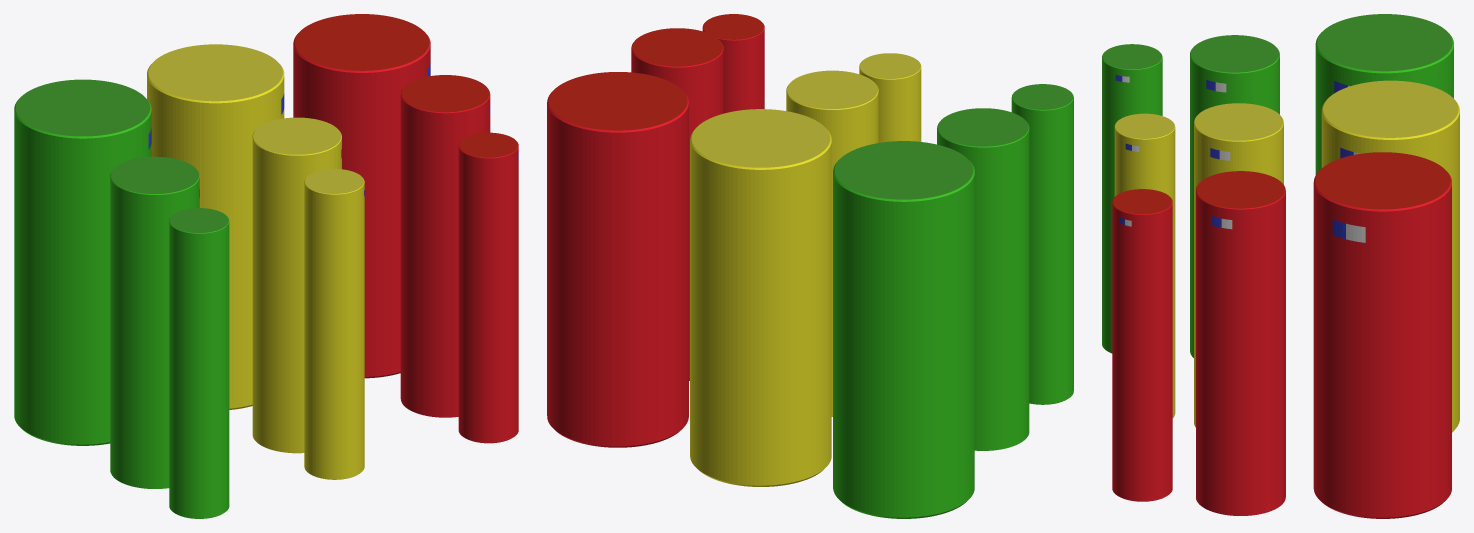
The model's file is peca (2).glb.
3 renders of one model, left to right at view 1: azimuth 30°, elevation 25°; view 2: azimuth 150°, elevation 25°; view 3: azimuth 270°, elevation 25°, orthographic. The views are drawn at different scales.
Visible parts, largest first — view 1: Cilindro.003_6, Cilindro.006_9, Cilindro.007_10, Cilindro.002_4, Cilindro.004_7, Cilindro_2, Cilindro.001_3, Cilindro.005_8, Cilindro.008_11; view 2: Cilindro.003_6, Cilindro.002_4, Cilindro.006_9, Cilindro.004_7, Cilindro.005_8, Cilindro_2, Cilindro.007_10, Cilindro.008_11, Cilindro.001_3; view 3: Cilindro.006_9, Cilindro.007_10, Cilindro.008_11, Cilindro.002_4, Cilindro.003_6, Cilindro.004_7, Cilindro.005_8, Cilindro_2, Cilindro.001_3.
Boxes of the visible parts, left/top/right/bottom form: Cilindro.003_6: left=14, top=79, right=151, bottom=445; Cilindro.006_9: left=293, top=14, right=430, bottom=378; Cilindro.007_10: left=400, top=75, right=490, bottom=417; Cilindro.002_4: left=147, top=44, right=284, bottom=409; Cilindro.004_7: left=110, top=156, right=199, bottom=488; Cilindro_2: left=252, top=117, right=341, bottom=453; Cilindro.001_3: left=304, top=169, right=364, bottom=479; Cilindro.005_8: left=169, top=208, right=229, bottom=518; Cilindro.008_11: left=458, top=132, right=518, bottom=443; Cilindro.003_6: left=833, top=141, right=974, bottom=518; Cilindro.002_4: left=690, top=109, right=831, bottom=486; Cilindro.006_9: left=547, top=72, right=688, bottom=447; Cilindro.004_7: left=937, top=108, right=1029, bottom=450; Cilindro.005_8: left=1011, top=84, right=1073, bottom=404; Cilindro_2: left=786, top=70, right=878, bottom=416; Cilindro.007_10: left=631, top=28, right=723, bottom=380; Cilindro.008_11: left=702, top=14, right=764, bottom=113; Cilindro.001_3: left=859, top=53, right=921, bottom=142; Cilindro.006_9: left=1313, top=152, right=1451, bottom=518; Cilindro.007_10: left=1196, top=171, right=1285, bottom=515; Cilindro.008_11: left=1112, top=189, right=1172, bottom=501; Cilindro.002_4: left=1321, top=80, right=1459, bottom=432; Cilindro.003_6: left=1315, top=14, right=1453, bottom=174; Cilindro.004_7: left=1190, top=35, right=1279, bottom=357; Cilindro.005_8: left=1102, top=44, right=1162, bottom=353; Cilindro_2: left=1194, top=103, right=1283, bottom=427; Cilindro.001_3: left=1114, top=113, right=1175, bottom=417.
Size of the model in its own units: 4.97 by 3.71 by 3.85.
